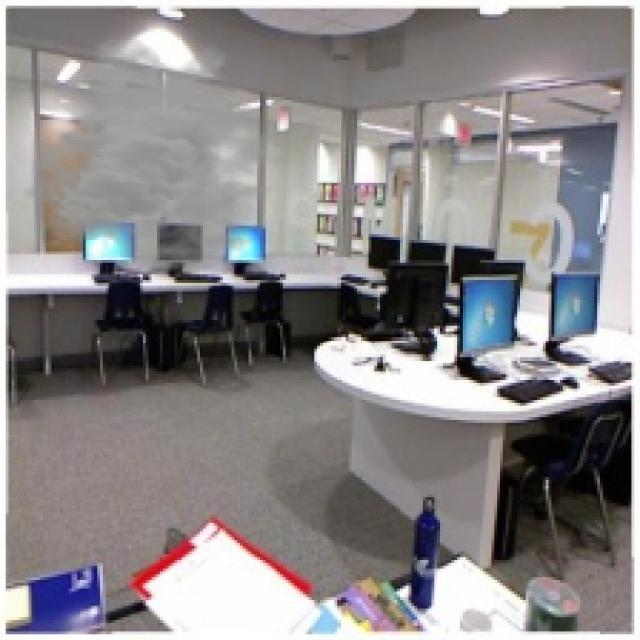Smoke: (20, 34, 300, 277)
